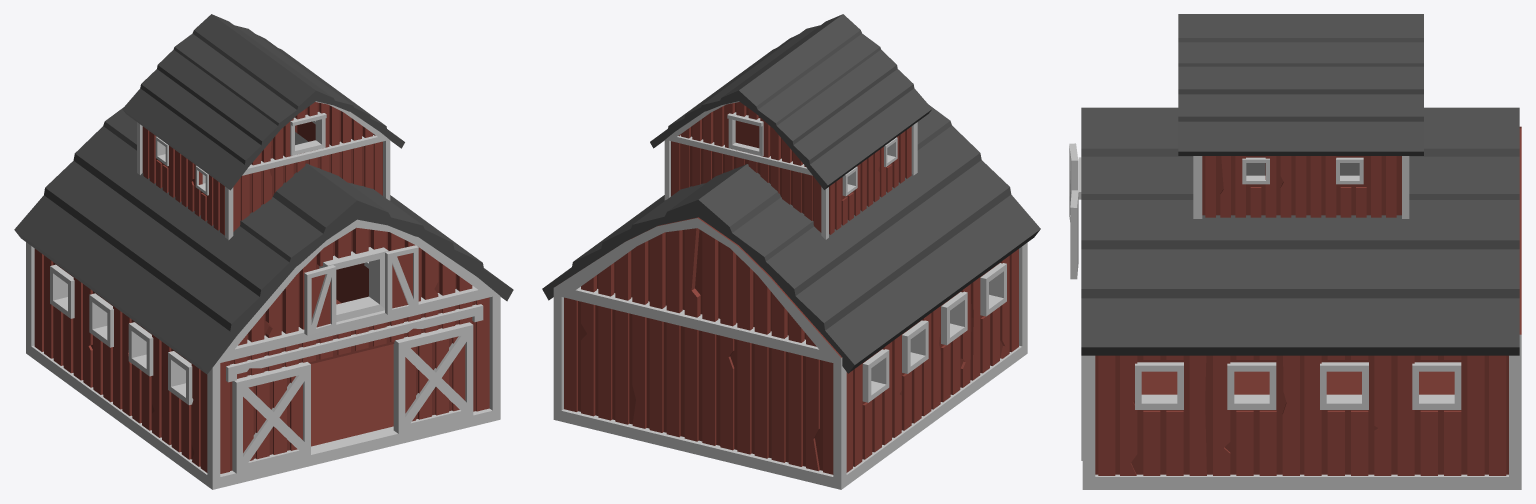
File: barn_big.glb
3 views of the same model, side by side, from view 1: azimuth 30°, elevation 25°; view 2: azimuth 150°, elevation 25°; view 3: azimuth 270°, elevation 25° (orthographic). The views are drawn at different scales.
Visible parts, largest first — view 1: BigBarn_Cube.034, BigBarn_Door_Cube.009, BigBarn_Door2_Cube.012, BigBarn_Window_Cube.017, BigBarn_Window2_Cube.016; view 2: BigBarn_Cube.034; view 3: BigBarn_Cube.034, BigBarn_Window_Cube.017, BigBarn_Window2_Cube.016.
Part boxes in pixels (x1,y1,x2,y2): BigBarn_Cube.034: (14,14,513,489); BigBarn_Door_Cube.009: (393,322,473,433); BigBarn_Door2_Cube.012: (232,362,310,473); BigBarn_Window_Cube.017: (385,245,418,314); BigBarn_Window2_Cube.016: (304,265,336,335); BigBarn_Cube.034: (542,14,1040,489); BigBarn_Cube.034: (1078,14,1521,489); BigBarn_Window_Cube.017: (1070,190,1078,279); BigBarn_Window2_Cube.016: (1069,143,1078,221).
Bounding box in the file's own units: 7.73 × 7.89 × 8.22.
